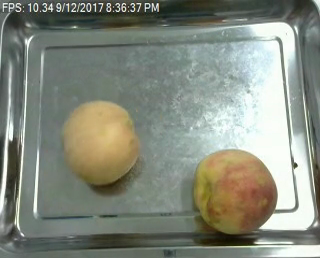Peach: (192, 147, 278, 235), (63, 99, 139, 186)
